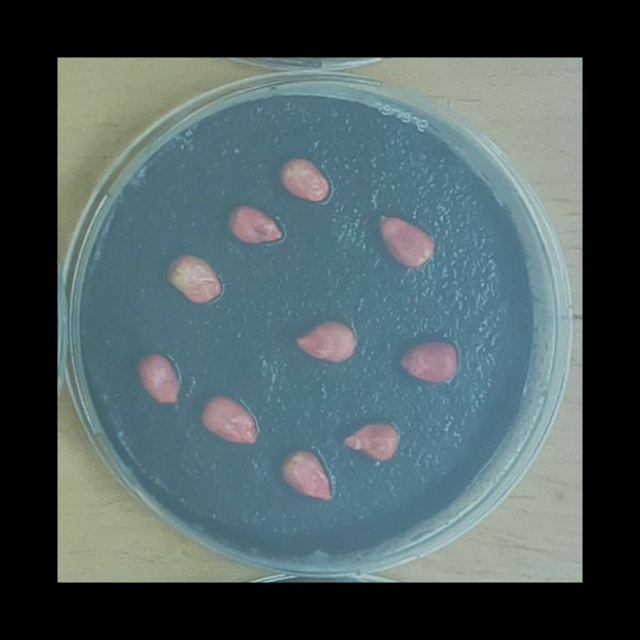Zea mays: (371, 205, 439, 273), (194, 388, 263, 451), (274, 443, 338, 508), (160, 247, 227, 308), (393, 332, 465, 388), (286, 314, 358, 366), (273, 150, 335, 208), (221, 197, 288, 249), (129, 345, 184, 408), (338, 414, 402, 466)
